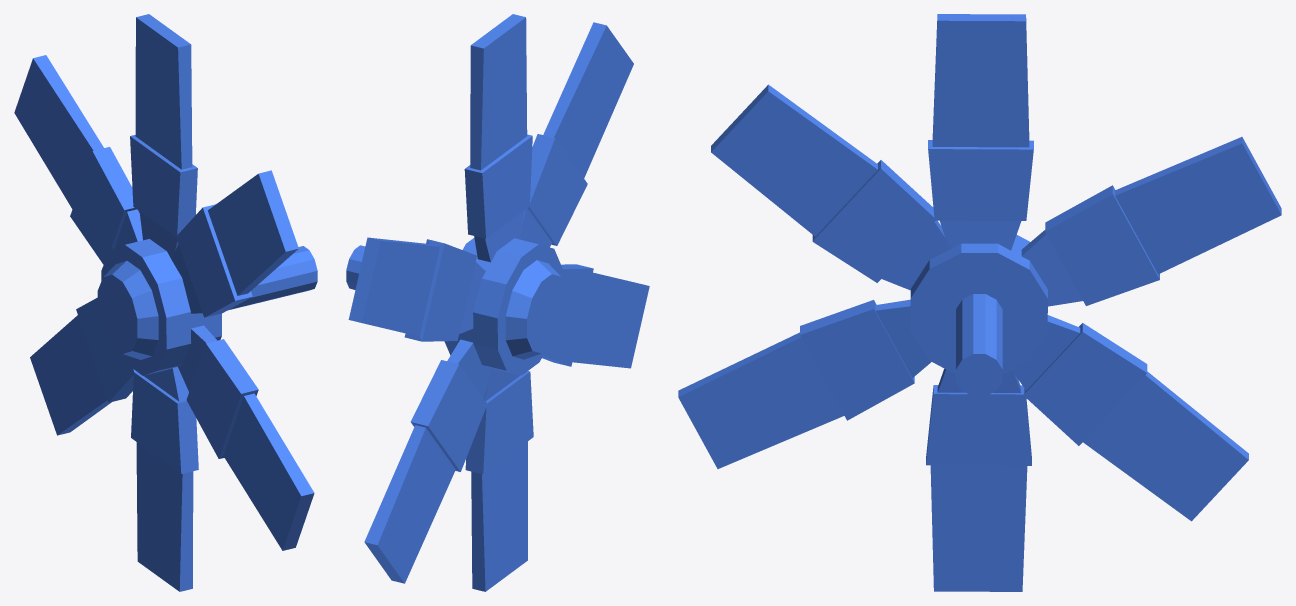
Rendered from Mill_Detach.fbx.
3 renders of one model, left to right at view 1: azimuth 30°, elevation 25°; view 2: azimuth 150°, elevation 25°; view 3: azimuth 270°, elevation 25°, orthographic. The views are drawn at different scales.
Visible parts, largest first — view 1: Mill_Detach; view 2: Mill_Detach; view 3: Mill_Detach.
Boxes of the visible parts, bbox=[...] form: Mill_Detach: bbox=[14, 14, 317, 591]; Mill_Detach: bbox=[346, 14, 649, 591]; Mill_Detach: bbox=[678, 14, 1281, 591].
Bounding box in the file's own units: 83.56 × 230 × 220.
